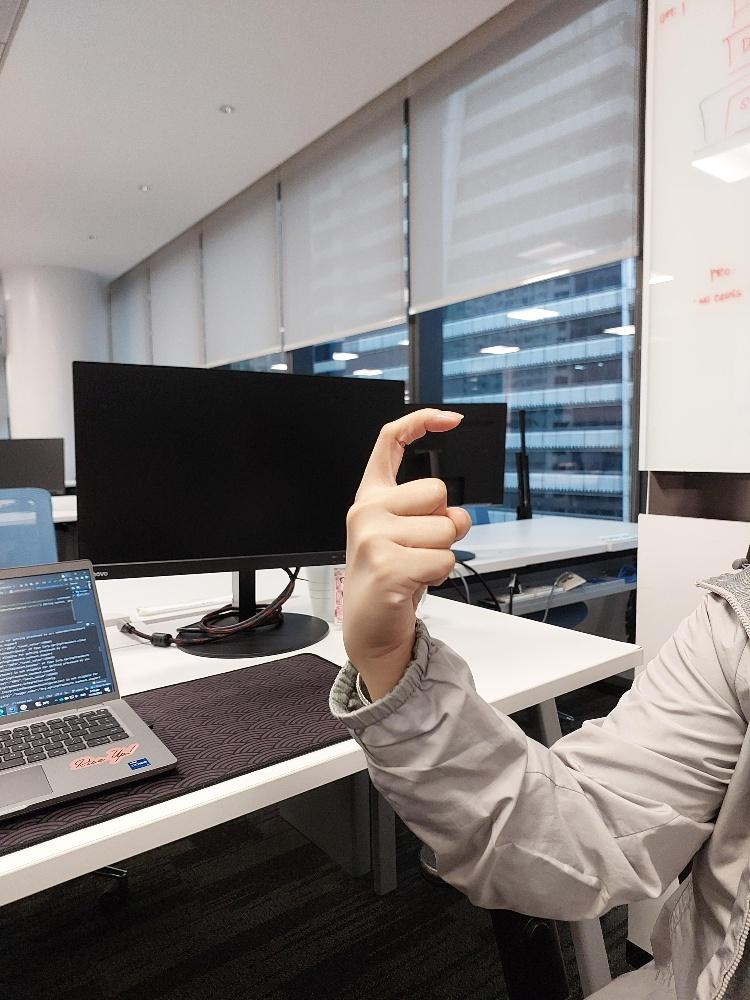x: (341, 405, 471, 649)
